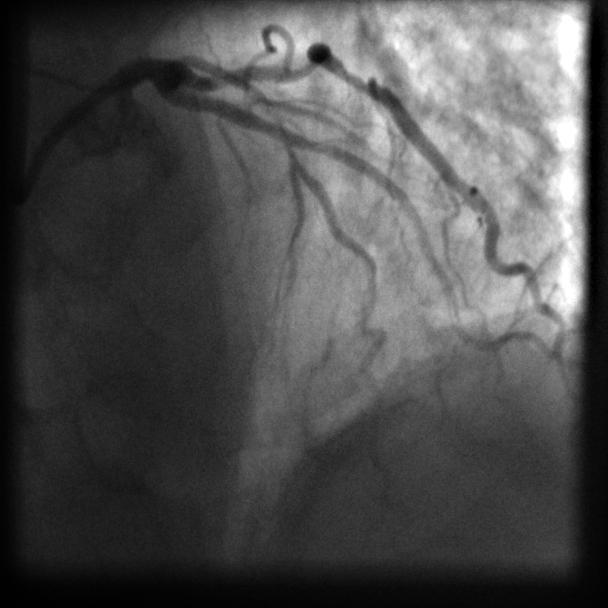Stenosis: (252, 82, 283, 131)
